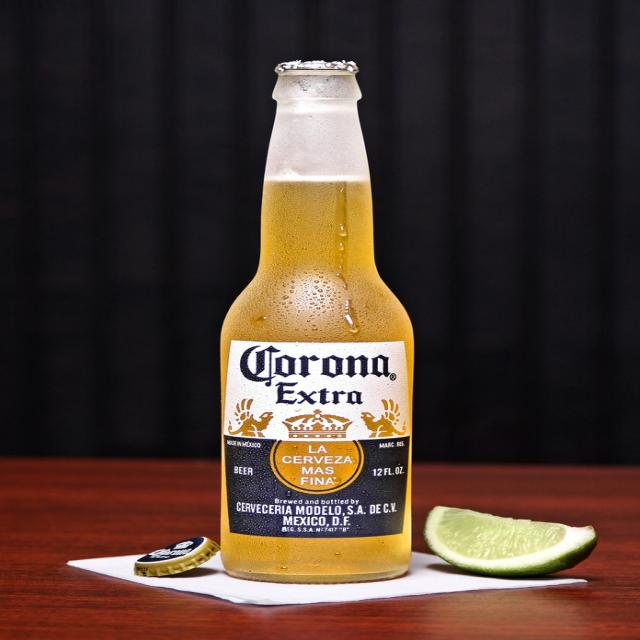corona: (223, 341, 411, 540)
